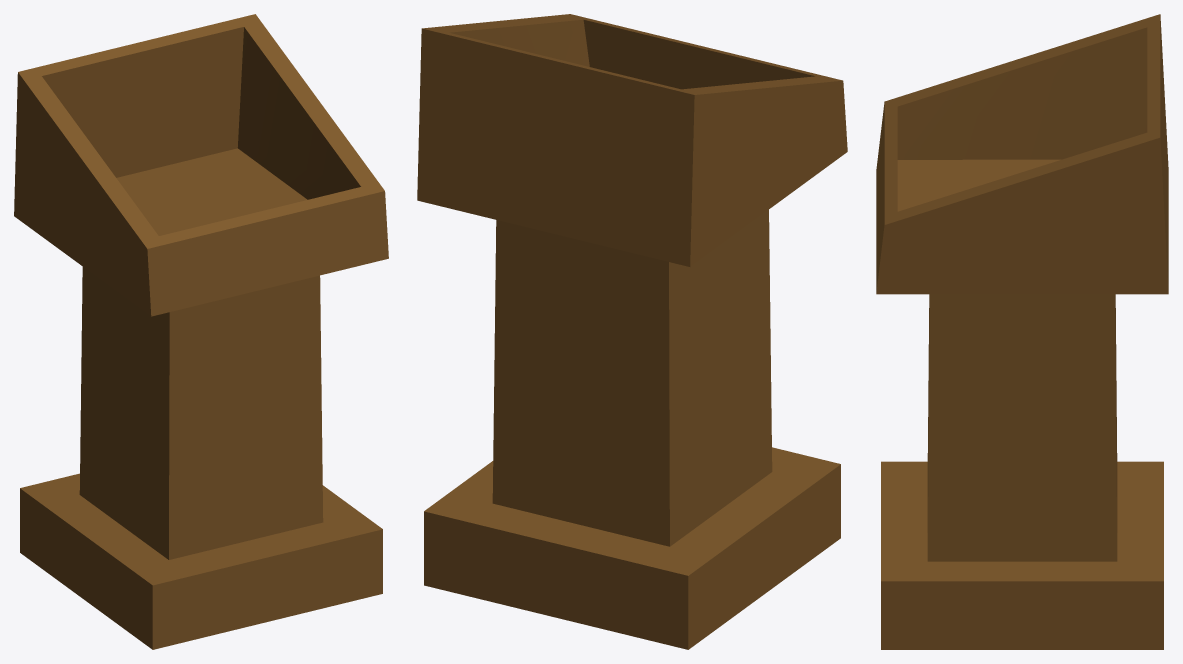
Rendered from podium.glb.
3 views of the same model, side by side, from view 1: azimuth 30°, elevation 25°; view 2: azimuth 150°, elevation 25°; view 3: azimuth 270°, elevation 25° (orthographic). The views are drawn at different scales.
Parts seen in each view (by area): view 1: podium; view 2: podium; view 3: podium.
Boxes of the visible parts, x1,y1,x2,y2 form: podium: (14,14,388,649); podium: (417,14,847,649); podium: (876,14,1168,649).
Bounding box in the file's own units: 0.6826 × 1.32 × 0.6826.
